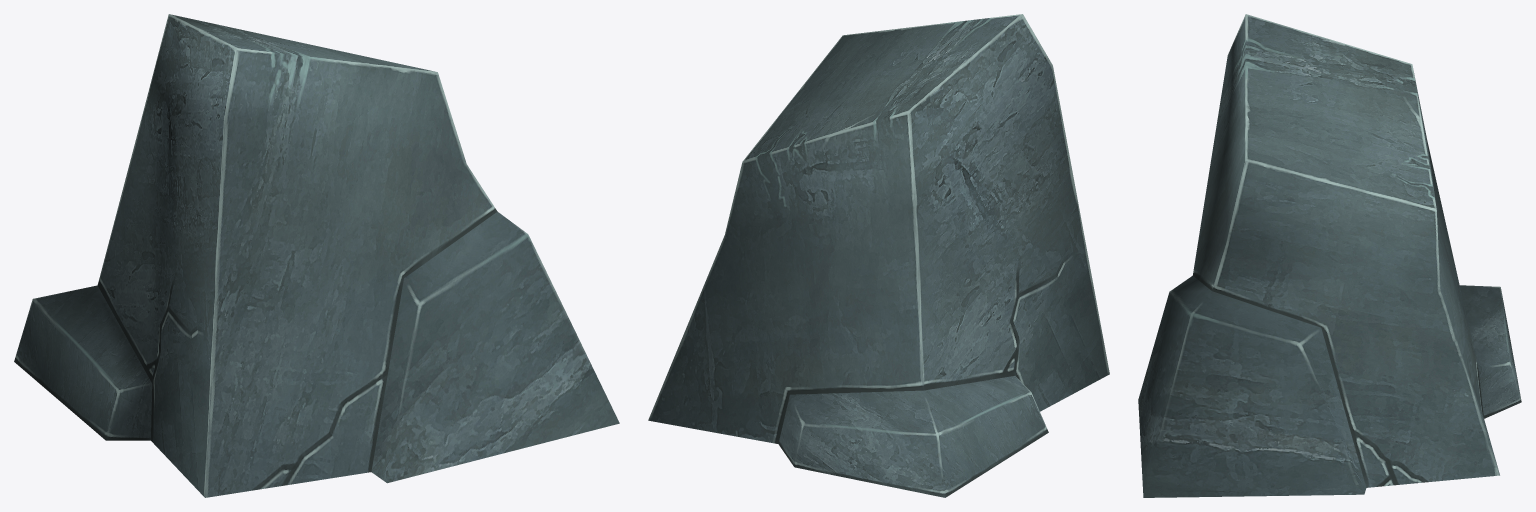
The model's file is Rock_7.fbx.
The picture shows the model from 3 angles, left to right: view 1: azimuth 30°, elevation 25°; view 2: azimuth 150°, elevation 25°; view 3: azimuth 270°, elevation 25°; orthographic projection. The views are drawn at different scales.
Parts seen in each view (by area): view 1: pPlane7; view 2: pPlane7; view 3: pPlane7.
Boxes of the visible parts, x1=… form: pPlane7: x1=14, y1=14, x2=619, y2=497; pPlane7: x1=648, y1=14, x2=1109, y2=497; pPlane7: x1=1138, y1=14, x2=1521, y2=497.
Size of the model in its own units: 3.99 by 3.88 by 3.86.
